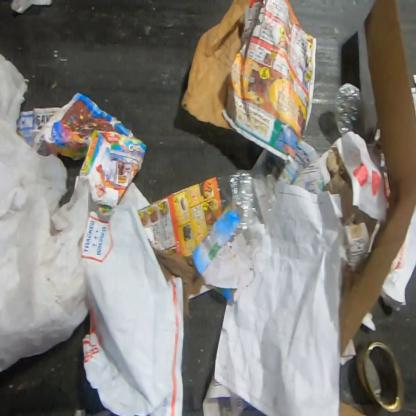cardboard: (337, 0, 415, 356), (178, 0, 251, 131), (154, 248, 206, 317), (340, 400, 369, 415)
metal: (356, 340, 406, 414)
rigid_plastic: (217, 168, 279, 247), (333, 82, 363, 137)
soft_plastic: (0, 51, 95, 376)
